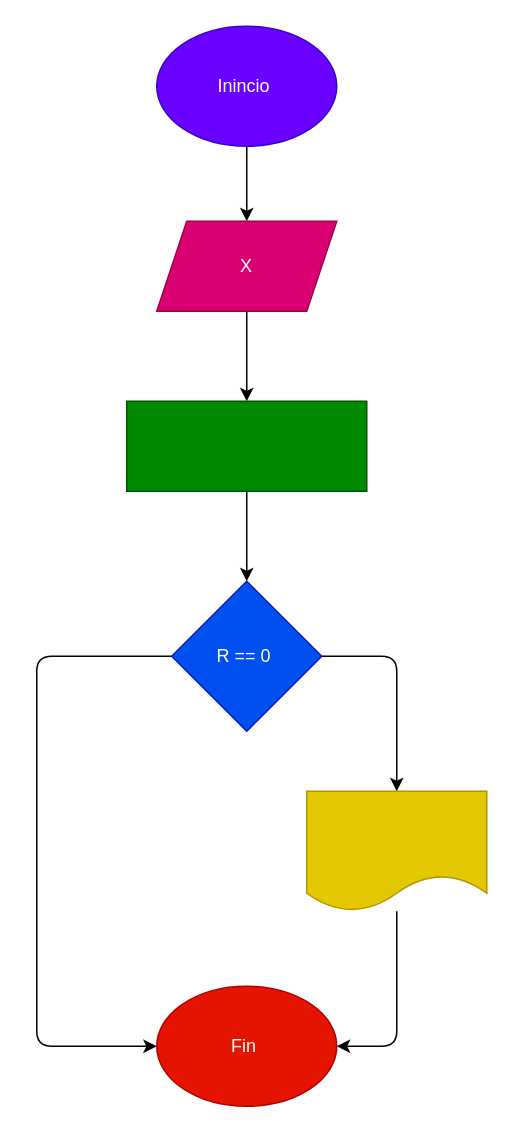
Some shapes in this 513 by 1133 pixel diagram are drawn without their labels. Each missing label, with the box of its shape:
ultimo digito es par: (305, 790, 487, 911)
ultimo_digito_par = X % 10 R = ultimo_digito_par % 2: (125, 400, 367, 491)
